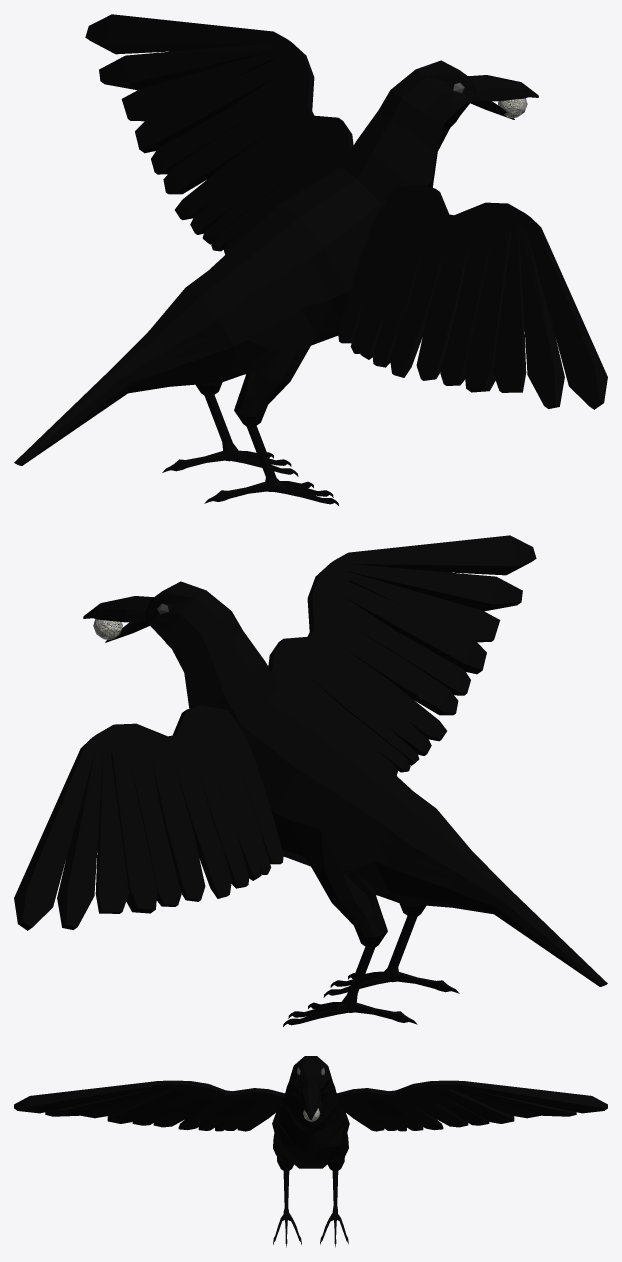
The model's file is Crow_stone.obj.
The picture shows the model from 3 angles, top to bottom: view 1: azimuth 30°, elevation 25°; view 2: azimuth 150°, elevation 25°; view 3: azimuth 270°, elevation 25°; orthographic projection. The views are drawn at different scales.
Parts seen in each view (by area): view 1: Cylinder.001; view 2: Cylinder.001; view 3: Cylinder.001.
Part boxes in pixels (left/top/right/bottom): Cylinder.001: left=14, top=14, right=607, bottom=505; Cylinder.001: left=14, top=535, right=607, bottom=1026; Cylinder.001: left=14, top=1056, right=607, bottom=1247.
Size of the model in its own units: 1.49 by 1.04 by 2.51.
